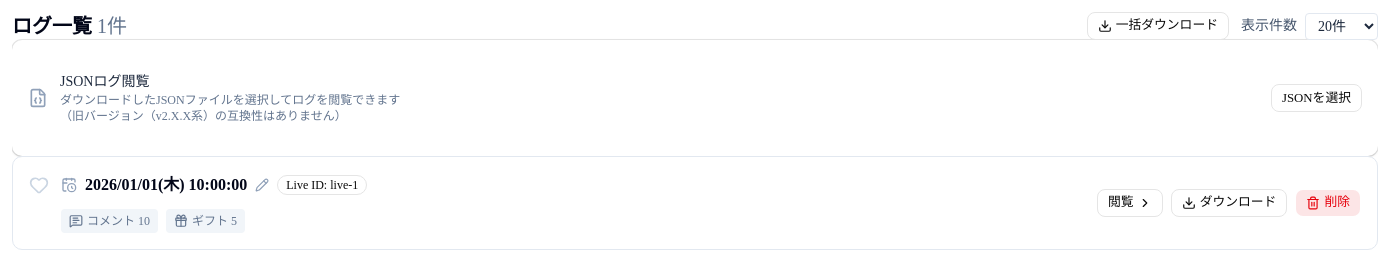
LogListPage › タイトル編集（canEdit=true） › 鉛筆ボタンをクリックすると入力フィールドが表示される
Click the button named "タイトルを編集" at (262, 185), box x1=255 y1=178 x2=269 y2=192
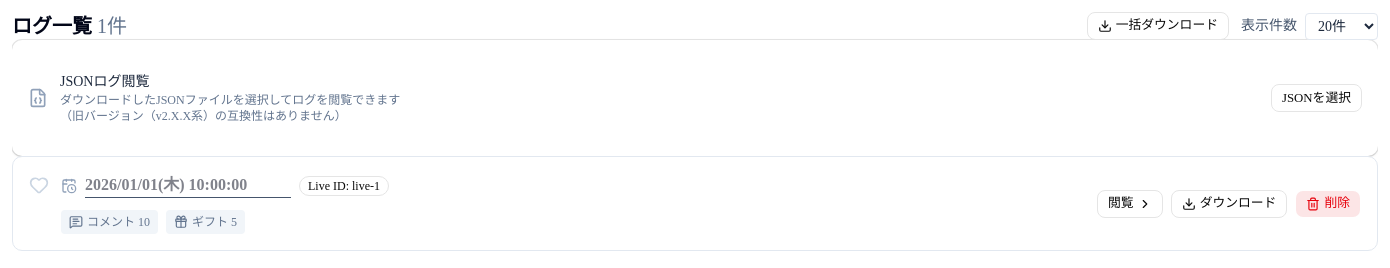
Check: the field is shown, box x1=85 y1=173 x2=291 y2=198
